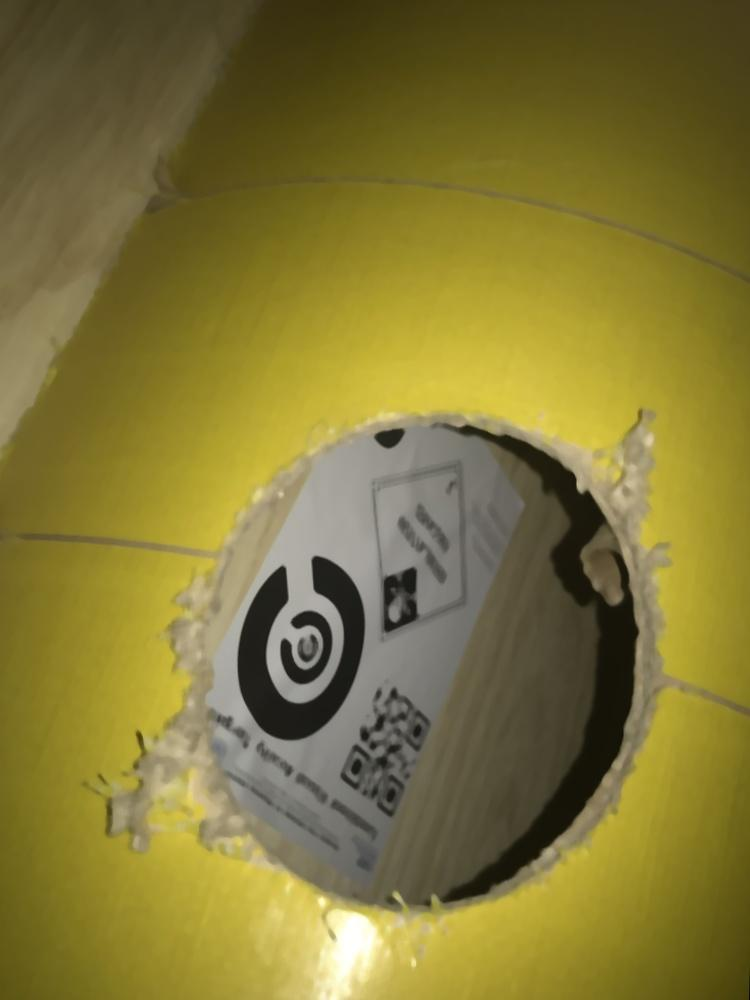poison: (369, 453, 468, 640)
